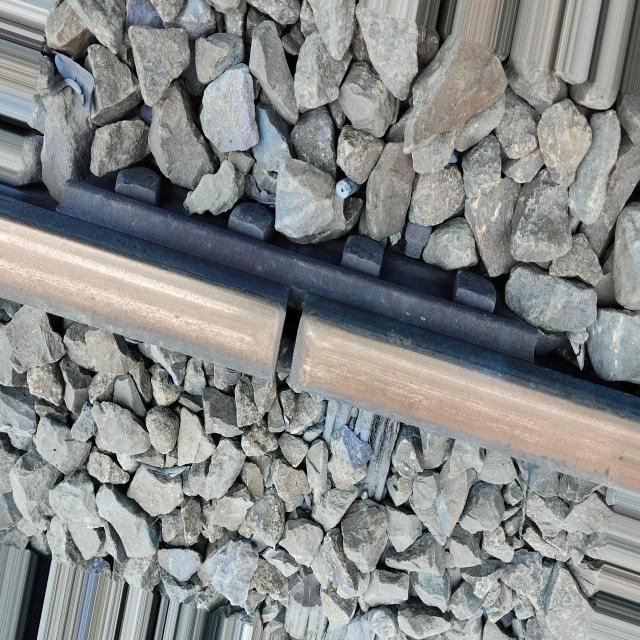Good Joint: (52, 167, 543, 366)
